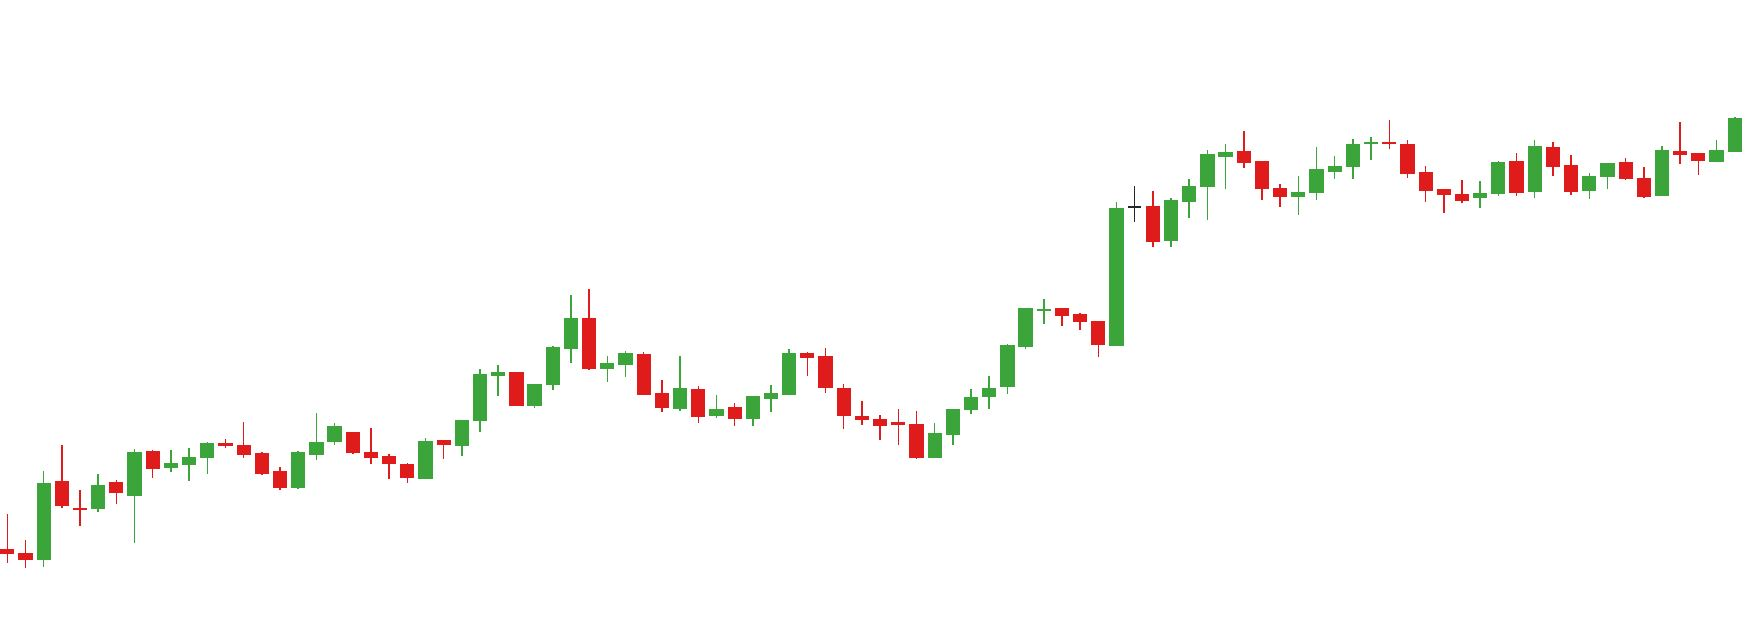sell: (1235, 120, 1401, 172)
